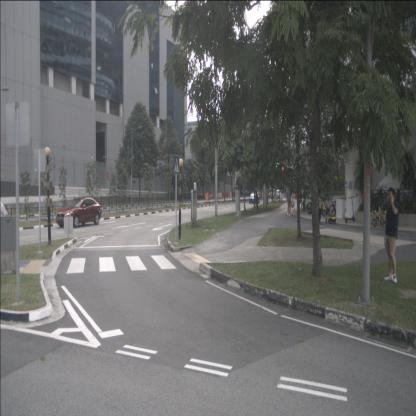human-pedestrian-adult: (382, 187, 400, 284), (286, 185, 292, 217)
movable_object-barrier: (216, 193, 222, 197), (222, 193, 227, 197), (227, 193, 231, 197)
vehicle-bicycle: (371, 202, 389, 228), (306, 197, 320, 216), (301, 200, 311, 212)
vehicle-car: (56, 197, 101, 228), (249, 193, 260, 204), (275, 190, 283, 201)
vehicle-truck: (269, 188, 275, 198)
